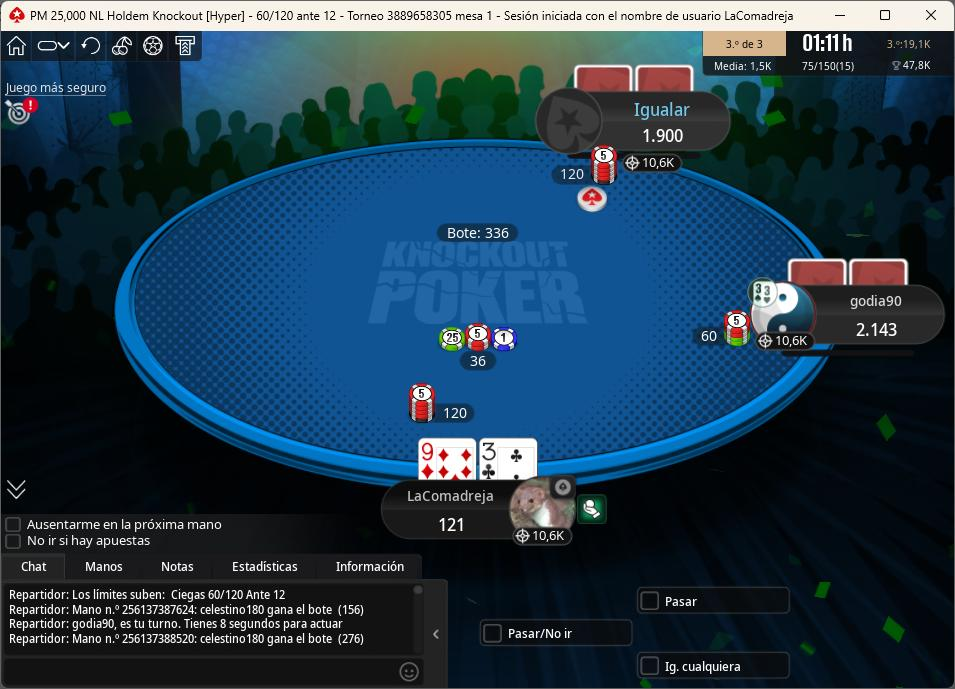Dealer: (571, 181, 625, 220)
HiddenCards: (575, 67, 700, 96), (787, 259, 913, 286)
Player: (748, 282, 951, 353), (543, 90, 732, 157)
PlayerBet: (546, 144, 626, 191), (687, 308, 756, 351)
PlayerChips: (849, 322, 906, 342), (643, 122, 688, 146)
Pot: (435, 223, 521, 244)
PreButtonCallAny: (637, 651, 793, 683)
PreButtonCheck: (636, 588, 798, 615)
PreButtonCheckFold: (476, 615, 638, 652)
PrincipalBet: (405, 380, 481, 425)
PrincipalCards: (413, 436, 542, 483)
PrincipalCards1: (417, 434, 478, 482)
PrincipalCards2: (478, 435, 541, 483)
PrincipalPlayer: (386, 476, 590, 552)
PrincipalPlayerChips: (432, 517, 474, 537)
SmallBigBlind: (246, 2, 348, 29)
TablePot: (437, 318, 548, 376)
